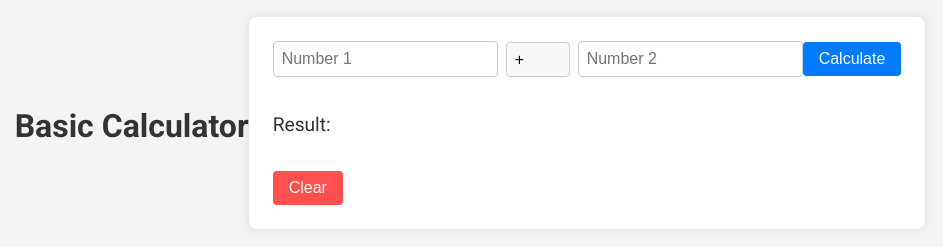
Test: Calculadora › não calcula divisão por zero
Step 1. Type "10" into the field with test id "num1" → (385,59), box [273,41,498,77]
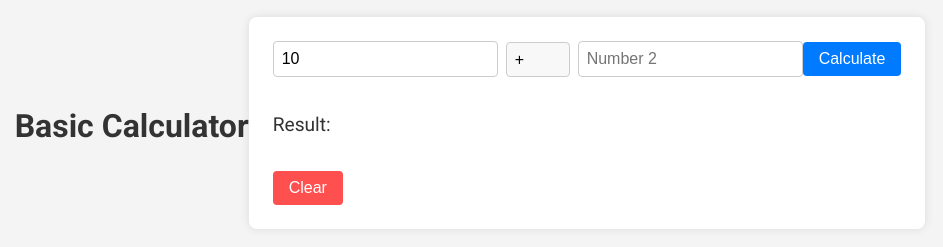
Step 2. Type "0" into the field with test id "num2" → (690,59), box [578,41,803,77]
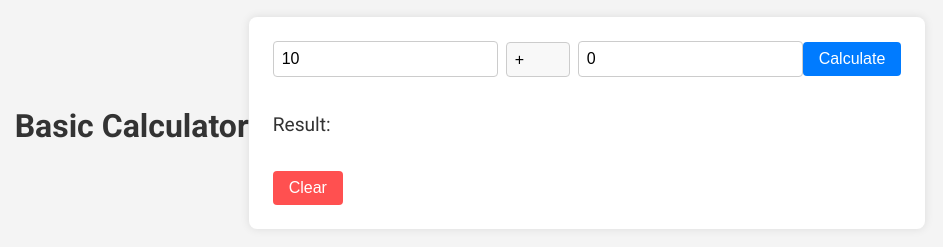
Step 3. Select "/" in the dropdown with test id "operation-select" → (538,59), box [506,42,570,77]
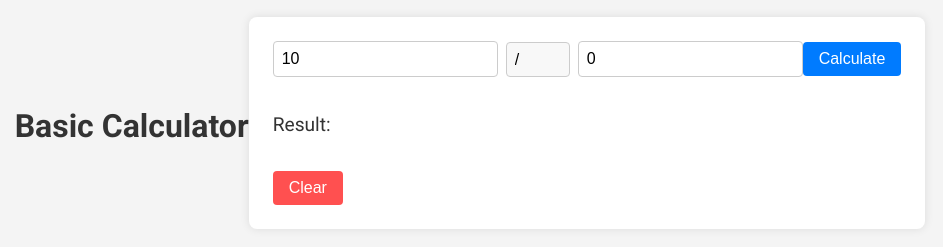
Step 4. Click the button with test id "calculate-button" → (852,59), box [803,42,901,76]
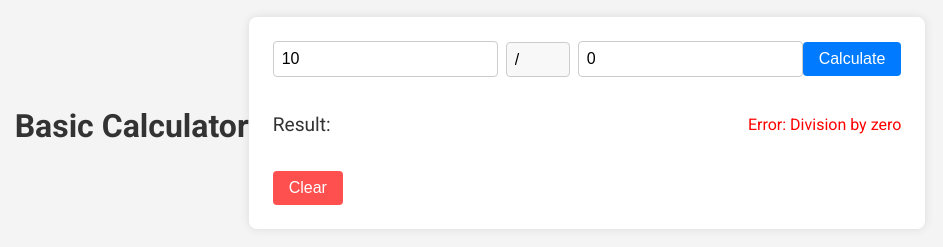
Expected: the text "Error: Division by zero" is shown, [748,114,901,134]
